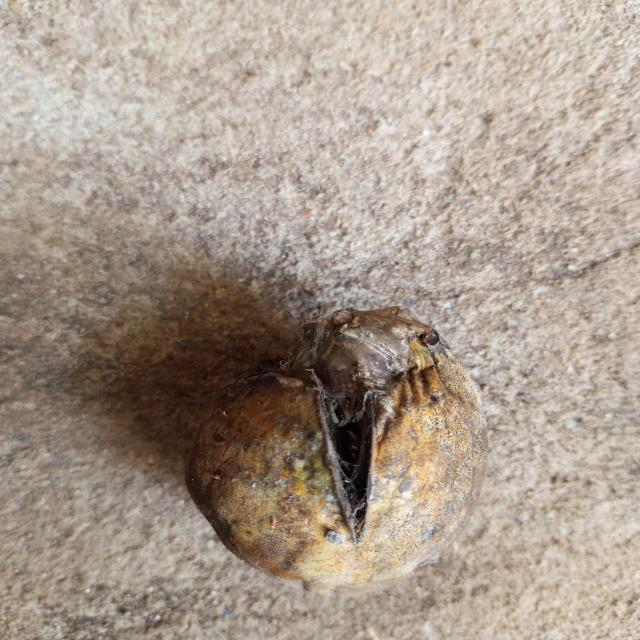damaged: (186, 306, 487, 588)
